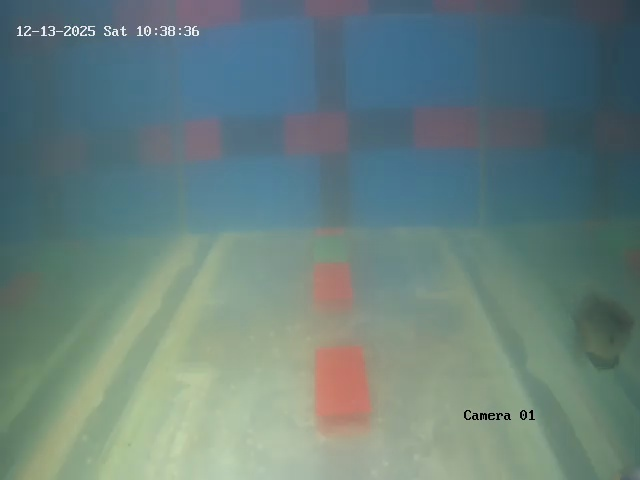fish: (565, 289, 627, 372)
